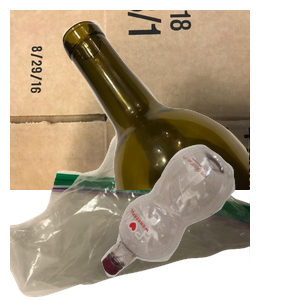cardboard: (10, 10, 250, 190)
glass: (60, 18, 300, 198)
plastic: (99, 142, 300, 300)
trash: (10, 134, 250, 300)
